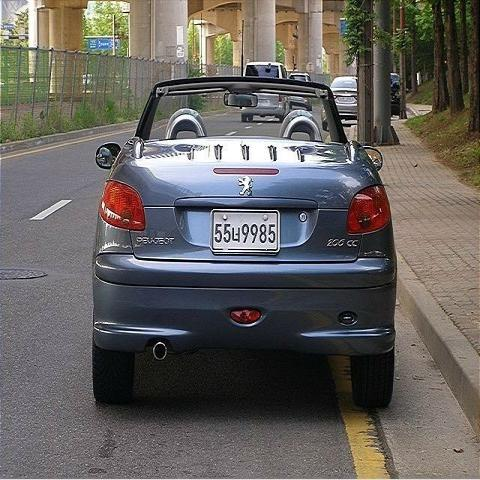LP: (203, 200, 287, 264)
